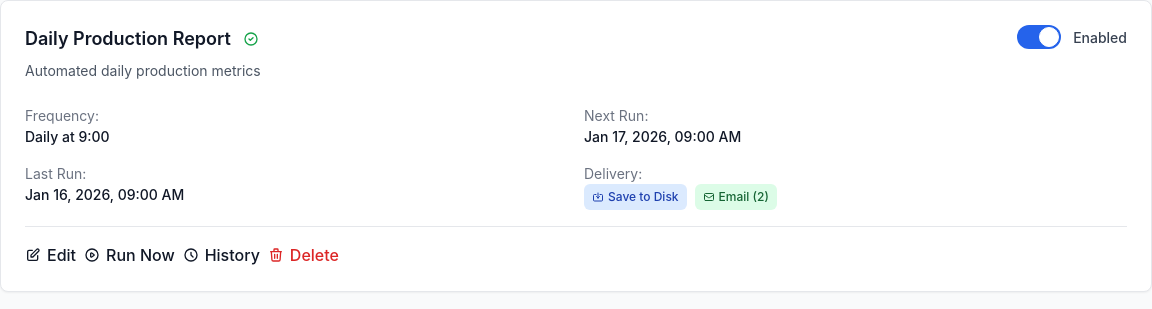
ScheduleCard › Loading States › should handle async toggle operation
The image size is (1152, 309).
Click the checkbox: (1072, 37) [1017,25,1127,49]
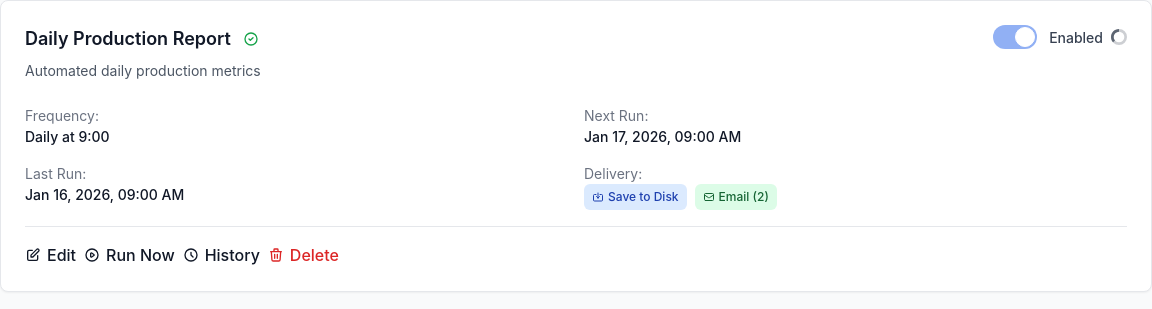
Now the checkbox is disabled, box [993,25,1127,49]
